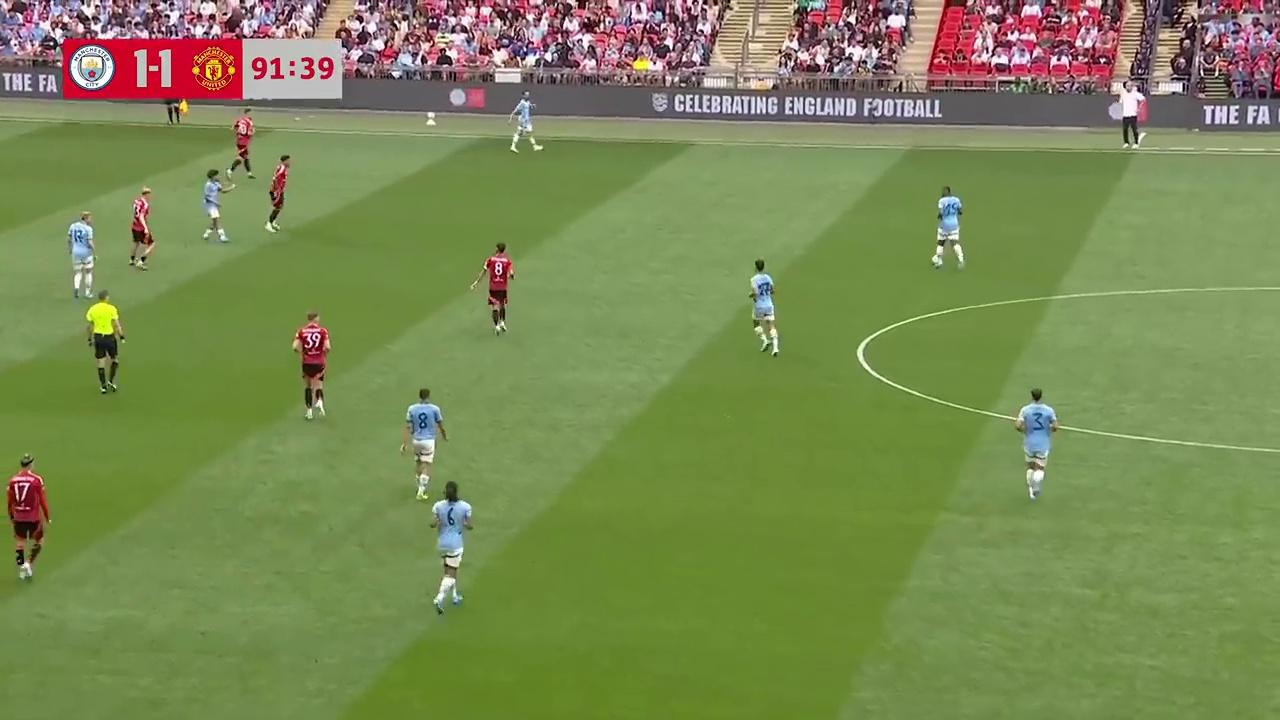ball: (931, 252, 942, 263)
player: (428, 480, 474, 614), (6, 454, 51, 581), (400, 388, 447, 496), (1014, 387, 1057, 500), (472, 242, 516, 334), (293, 311, 330, 420), (748, 258, 779, 356), (931, 184, 966, 270), (67, 211, 96, 298), (202, 168, 230, 243), (129, 187, 154, 269), (228, 108, 255, 180), (266, 154, 290, 232), (509, 95, 541, 152)
referee: (85, 290, 124, 394)
